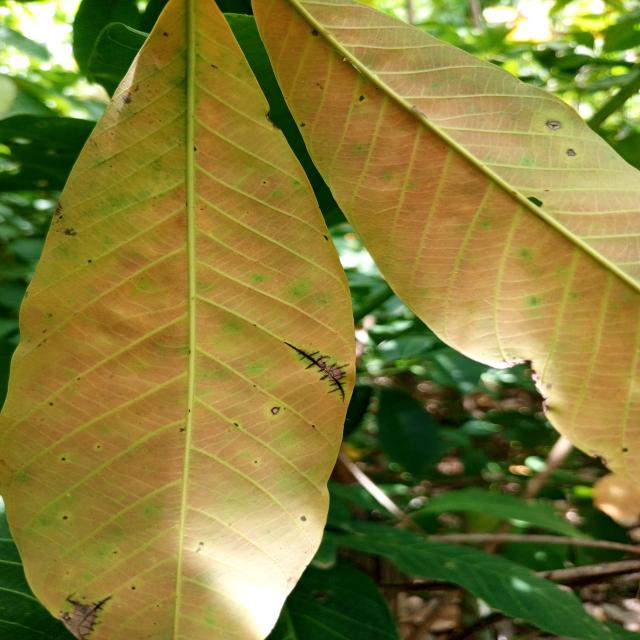Colletotrichum: (547, 122, 562, 130), (270, 407, 280, 415), (567, 149, 576, 156), (358, 96, 365, 102), (312, 29, 318, 36), (300, 516, 306, 521)
Corynespora: (284, 342, 350, 402), (57, 592, 113, 640)
